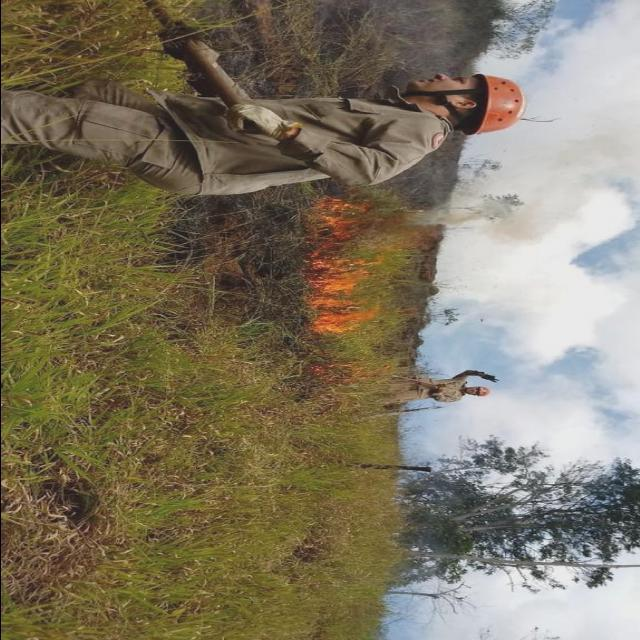Fire: (311, 195, 406, 333)
